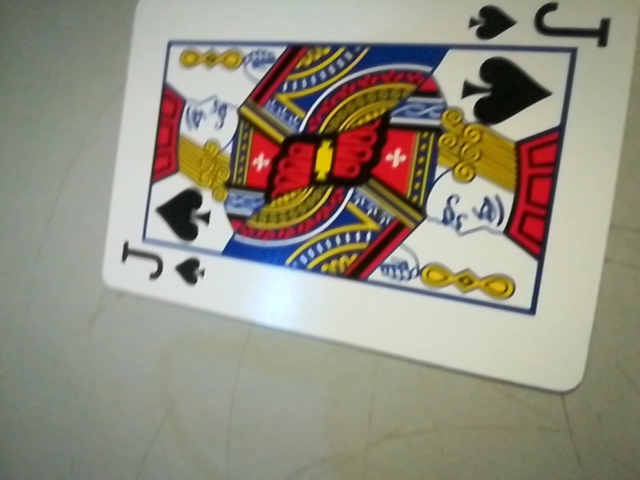ht j: (451, 0, 623, 53)
